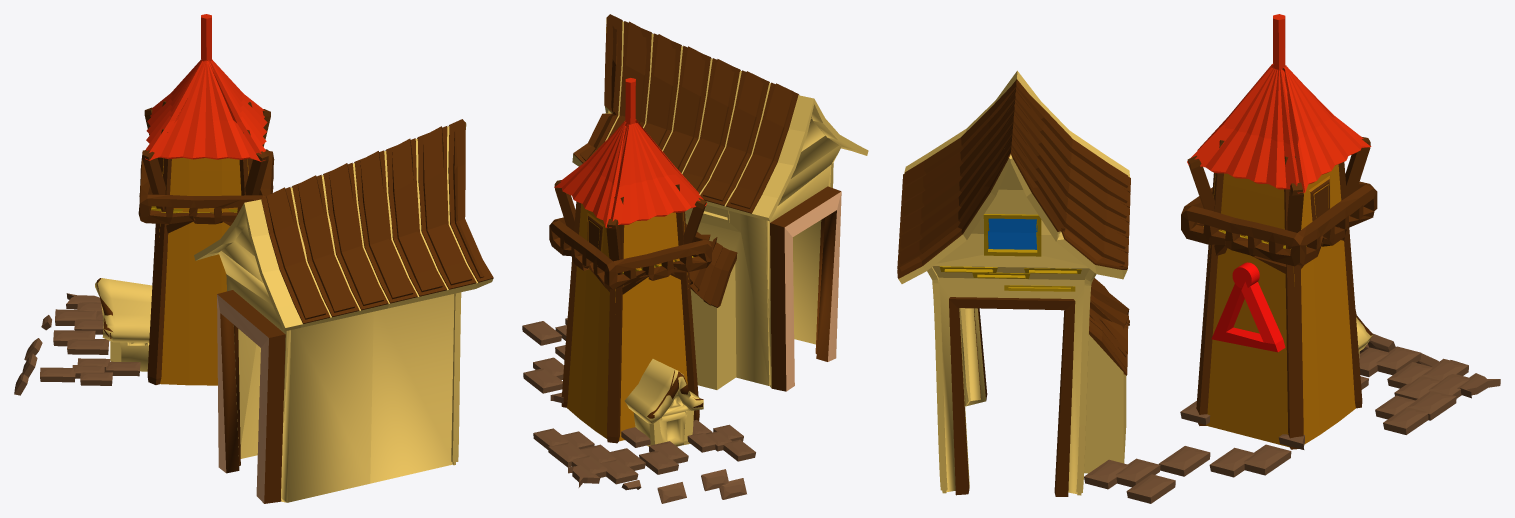
File: NOTGate.fbx
3 renders of one model, left to right at view 1: azimuth 30°, elevation 25°; view 2: azimuth 150°, elevation 25°; view 3: azimuth 270°, elevation 25°, orthographic. The views are drawn at different scales.
Parts seen in each view (by area): view 1: TrainHouse; view 2: TrainHouse; view 3: TrainHouse.
Boxes of the visible parts, box(x1,y1,x2,y2) form: TrainHouse: box(14, 14, 493, 503); TrainHouse: box(522, 14, 868, 503); TrainHouse: box(897, 14, 1500, 503).
Size of the model in its own units: 580 by 631 by 813.
